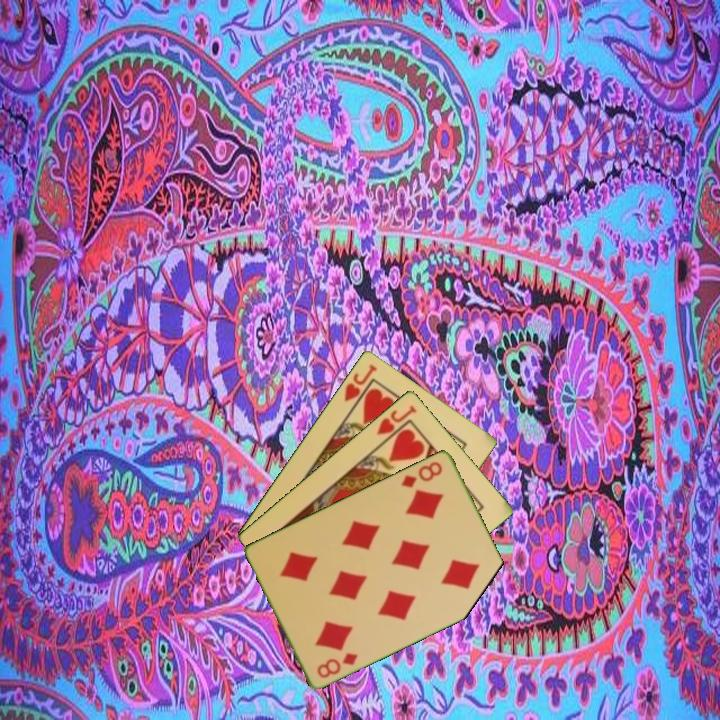8d: (397, 457, 445, 490), (313, 649, 361, 681)
Jh: (340, 360, 380, 412), (373, 401, 420, 438)
